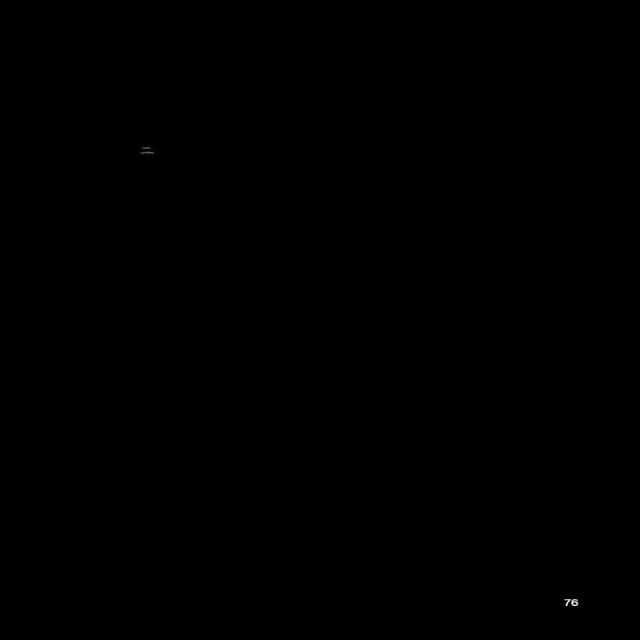2 -two-: (136, 144, 158, 159)
